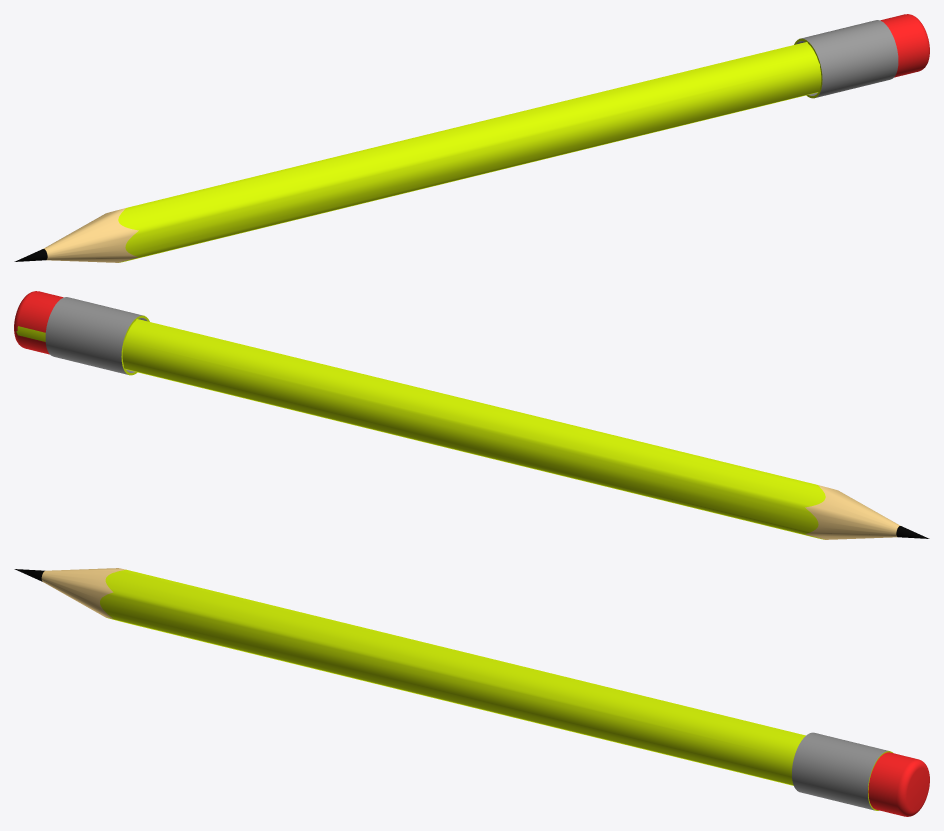
The model's file is pencil.FBX.
3 views of the same model, one above another, from view 1: azimuth 30°, elevation 25°; view 2: azimuth 150°, elevation 25°; view 3: azimuth 330°, elevation 25° (orthographic).
Visible parts, largest first — view 1: pen; view 2: pen; view 3: pen.
Boxes of the visible parts, <box> form: pen: <box>14,14,929,262</box>; pen: <box>14,291,929,539</box>; pen: <box>14,568,929,816</box>.
Size of the model in its own units: 11.24 by 0.6604 by 0.6604.
